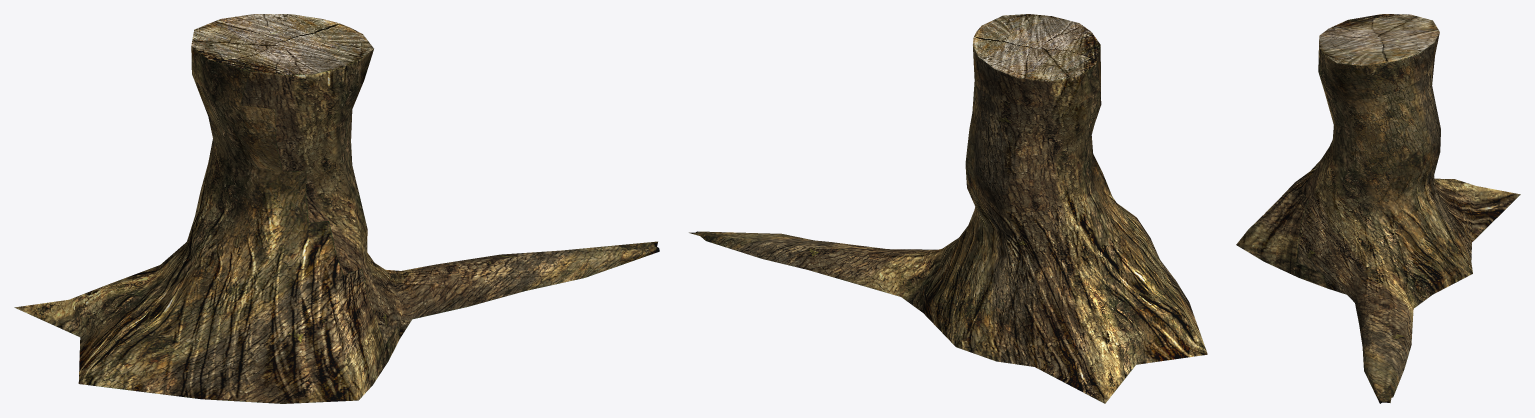
Rendered from tree stump01.FBX.
3 views of the same model, side by side, from view 1: azimuth 30°, elevation 25°; view 2: azimuth 150°, elevation 25°; view 3: azimuth 270°, elevation 25° (orthographic). The views are drawn at different scales.
Parts seen in each view (by area): view 1: tree stump01; view 2: tree stump01; view 3: tree stump01.
Boxes of the visible parts, x1,y1,x2,y2 form: tree stump01: [14, 14, 659, 403]; tree stump01: [689, 14, 1207, 403]; tree stump01: [1236, 14, 1520, 403].
Bounding box in the file's own units: 282 × 141 × 159.
1 material, 1 textured.
